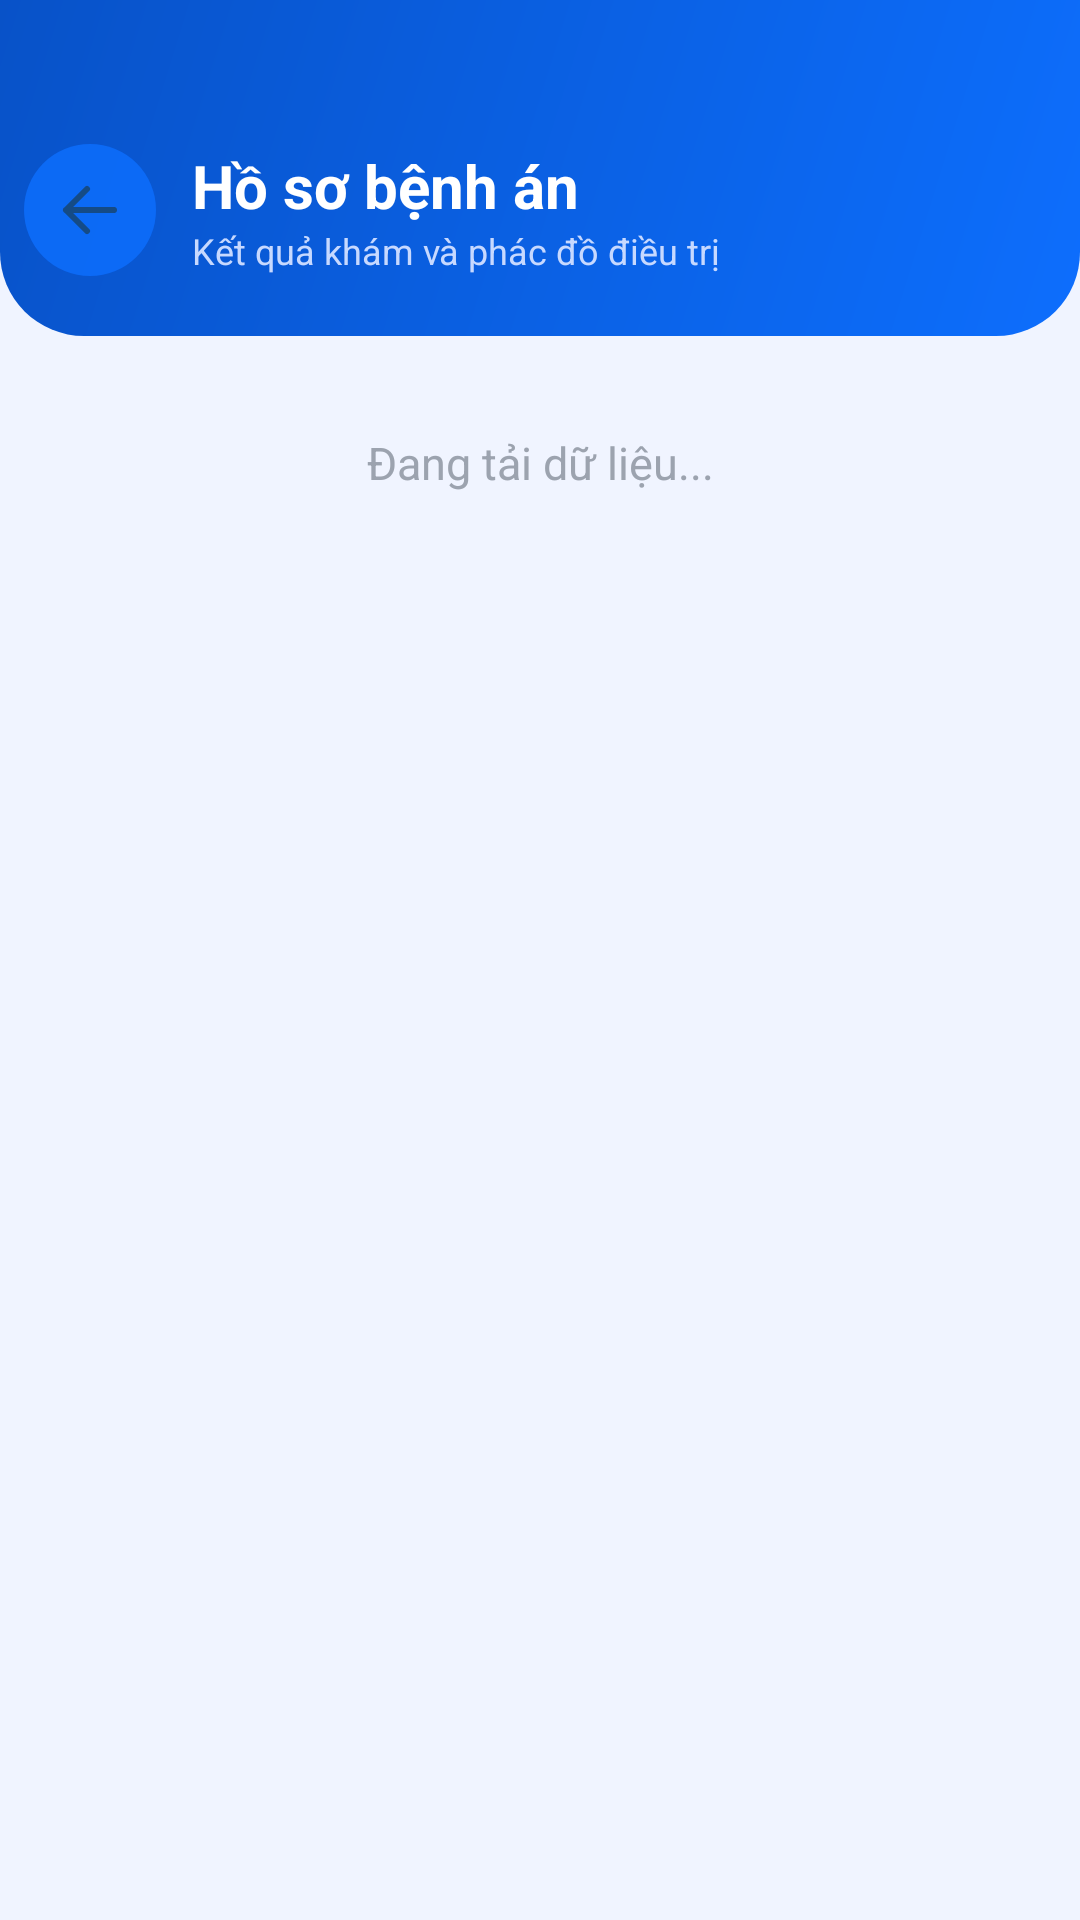

Icon click points for this 1080x1920 phone screenshot, format point (x, y):
Quay lại: point (90, 210)
